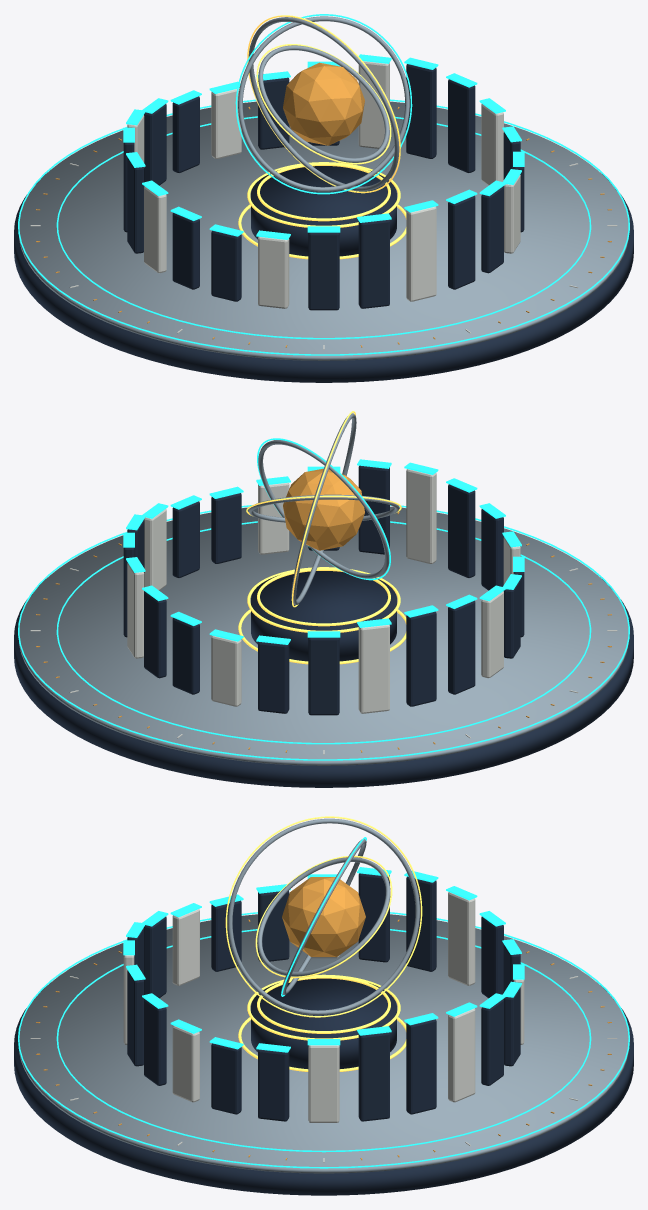
Rendered from hub.glb.
The picture shows the model from 3 angles, top to bottom: view 1: azimuth 30°, elevation 25°; view 2: azimuth 150°, elevation 25°; view 3: azimuth 270°, elevation 25°; orthographic projection.
Parts seen in each view (by area): view 1: Floating_plinth___crown_mesh, Floating_plinth___lower_mesh, Reactor_pedestal_mesh, Faceted_heart_mesh, Titanium_petal_18_mesh, Titanium_petal_17_mesh, Orbital_titanium_1_mesh, Titanium_petal_02_mesh, Titanium_petal_16_mesh, Titanium_petal_01_mesh, Titanium_petal_19_mesh, Orbital_titanium_2_mesh (+22 smaller); view 2: Floating_plinth___crown_mesh, Floating_plinth___lower_mesh, Reactor_pedestal_mesh, Faceted_heart_mesh, Titanium_petal_10_mesh, Titanium_petal_18_mesh, Titanium_petal_09_mesh, Titanium_petal_08_mesh, Titanium_petal_11_mesh, Titanium_petal_17_mesh, Concentric_wayfinding_mesh, Titanium_petal_07_mesh (+19 smaller); view 3: Floating_plinth___crown_mesh, Floating_plinth___lower_mesh, Reactor_pedestal_mesh, Faceted_heart_mesh, Orbital_titanium_2_mesh, Titanium_petal_02_mesh, Titanium_petal_01_mesh, Titanium_petal_00_mesh, Titanium_petal_03_mesh, Titanium_petal_09_mesh, Concentric_wayfinding_mesh, Titanium_petal_10_mesh (+20 smaller).
Part boxes in pixels (<box>): Floating_plinth___crown_mesh: <box>19,101,628,360</box>; Floating_plinth___lower_mesh: <box>14,172,633,382</box>; Reactor_pedestal_mesh: <box>251,166,396,256</box>; Faceted_heart_mesh: <box>283,62,364,145</box>; Titanium_petal_18_mesh: <box>406,206,436,301</box>; Titanium_petal_17_mesh: <box>358,219,389,308</box>; Orbital_titanium_1_mesh: <box>238,16,409,191</box>; Titanium_petal_02_mesh: <box>406,64,436,158</box>; Titanium_petal_16_mesh: <box>308,232,339,310</box>; Titanium_petal_01_mesh: <box>448,79,475,172</box>; Titanium_petal_19_mesh: <box>448,195,475,289</box>; Orbital_titanium_2_mesh: <box>248,17,399,191</box>; Floating_plinth___crown_mesh: <box>19,506,628,765</box>; Floating_plinth___lower_mesh: <box>14,577,633,787</box>; Reactor_pedestal_mesh: <box>251,571,396,661</box>; Faceted_heart_mesh: <box>283,468,364,550</box>; Titanium_petal_10_mesh: <box>406,611,436,706</box>; Titanium_petal_18_mesh: <box>406,469,436,563</box>; Titanium_petal_09_mesh: <box>358,624,389,713</box>; Titanium_petal_08_mesh: <box>308,637,339,715</box>; Titanium_petal_11_mesh: <box>448,600,475,694</box>; Titanium_petal_17_mesh: <box>448,484,475,577</box>; Concentric_wayfinding_mesh: <box>18,505,629,760</box>; Titanium_petal_07_mesh: <box>258,641,289,713</box>; Floating_plinth___crown_mesh: <box>19,914,628,1173</box>; Floating_plinth___lower_mesh: <box>14,985,633,1195</box>; Reactor_pedestal_mesh: <box>251,978,396,1068</box>; Faceted_heart_mesh: <box>282,877,365,956</box>; Orbital_titanium_2_mesh: <box>228,818,419,1015</box>; Titanium_petal_02_mesh: <box>406,1019,436,1114</box>; Titanium_petal_01_mesh: <box>358,1032,389,1121</box>; Titanium_petal_00_mesh: <box>308,1045,339,1122</box>; Titanium_petal_03_mesh: <box>448,1008,475,1102</box>; Titanium_petal_09_mesh: <box>448,892,475,985</box>; Concentric_wayfinding_mesh: <box>18,912,629,1168</box>; Titanium_petal_10_mesh: <box>406,876,436,971</box>.
Size of the model in its own units: 14 by 5.94 by 14.
